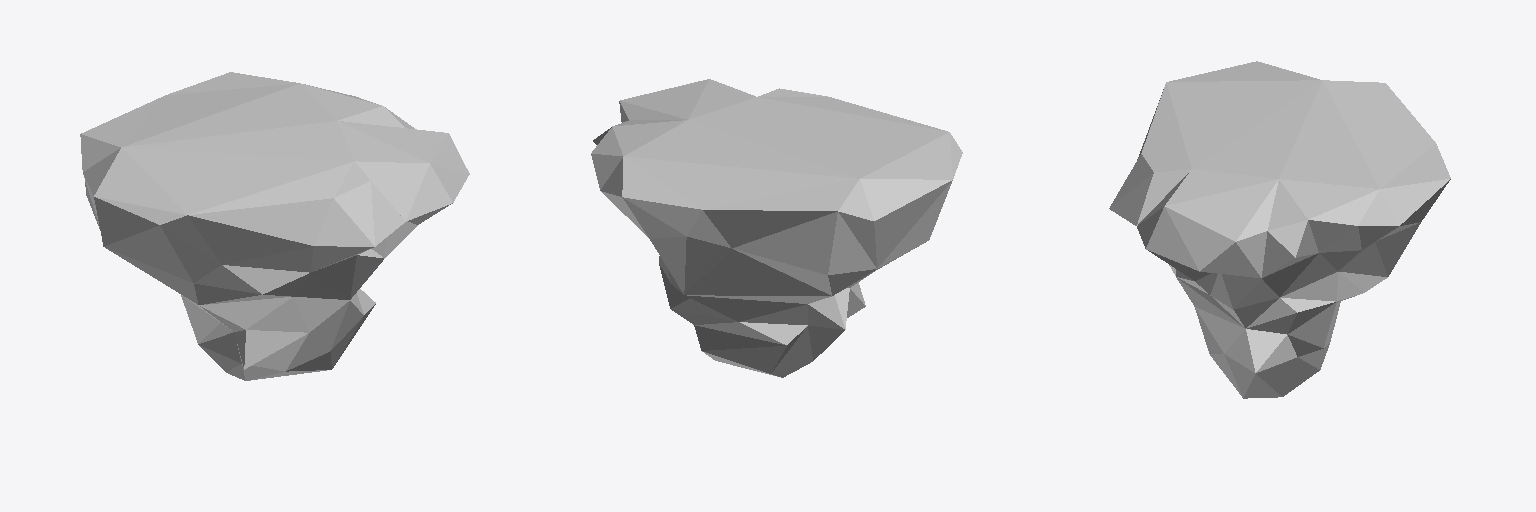
Rendered from IslandSmall2.obj.
3 renders of one model, left to right at view 1: azimuth 30°, elevation 25°; view 2: azimuth 150°, elevation 25°; view 3: azimuth 270°, elevation 25°, orthographic.
Parts seen in each view (by area): view 1: Small_Island_2_Low_Sphere.003; view 2: Small_Island_2_Low_Sphere.003; view 3: Small_Island_2_Low_Sphere.003.
Boxes of the visible parts, box(x1,y1,x2,y2) form: Small_Island_2_Low_Sphere.003: box(80, 72, 469, 380); Small_Island_2_Low_Sphere.003: box(591, 79, 962, 377); Small_Island_2_Low_Sphere.003: box(1109, 61, 1450, 398).
Size of the model in its own units: 25.97 by 17.22 by 22.17.